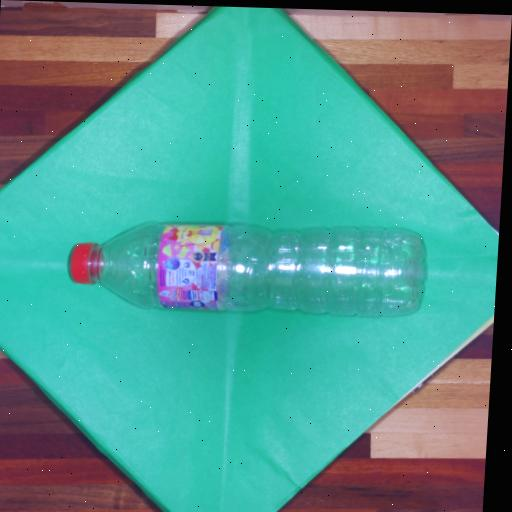bottle: (70, 223, 423, 314)
